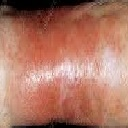Cellulitis: (19, 13, 93, 118)
